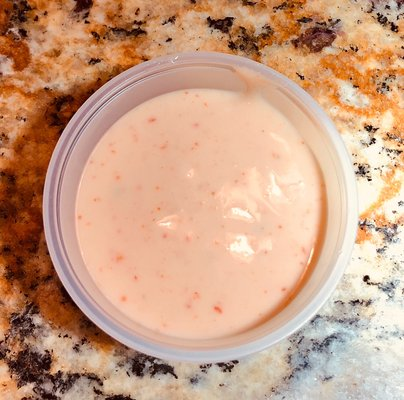sushi: (41, 48, 394, 385)
